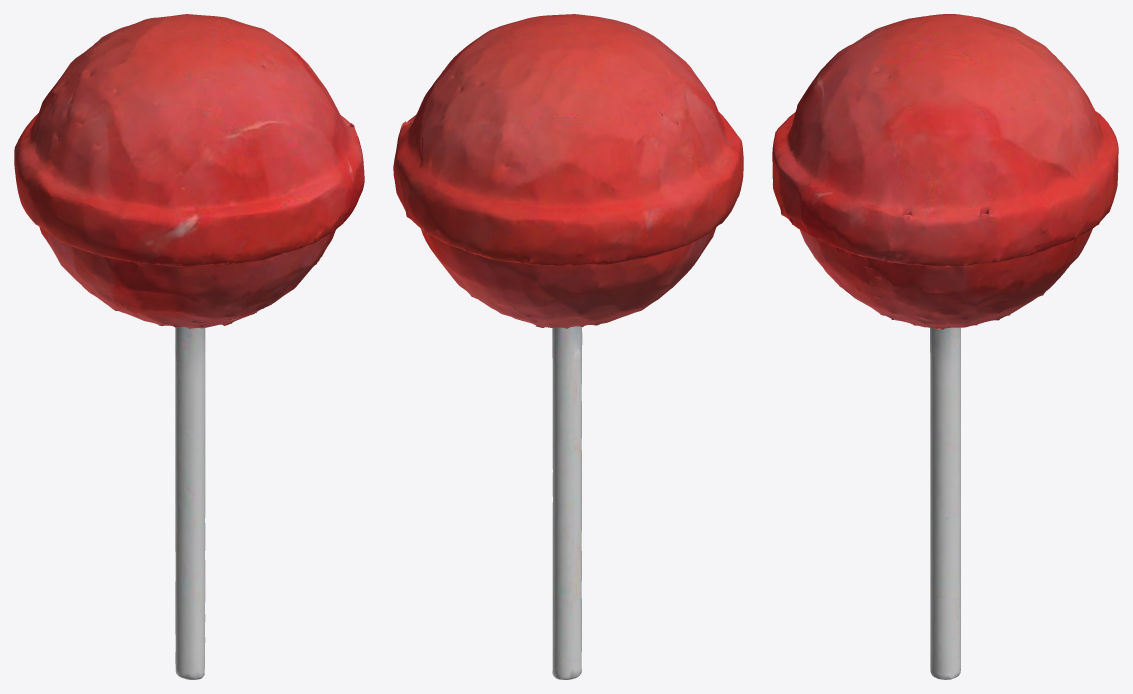
The picture shows the model from 3 angles, left to right: view 1: azimuth 30°, elevation 25°; view 2: azimuth 150°, elevation 25°; view 3: azimuth 270°, elevation 25°; orthographic projection.
Bounding box in the file's own units: 0.9873 × 2 × 0.9794.
1 material, 1 textured.
